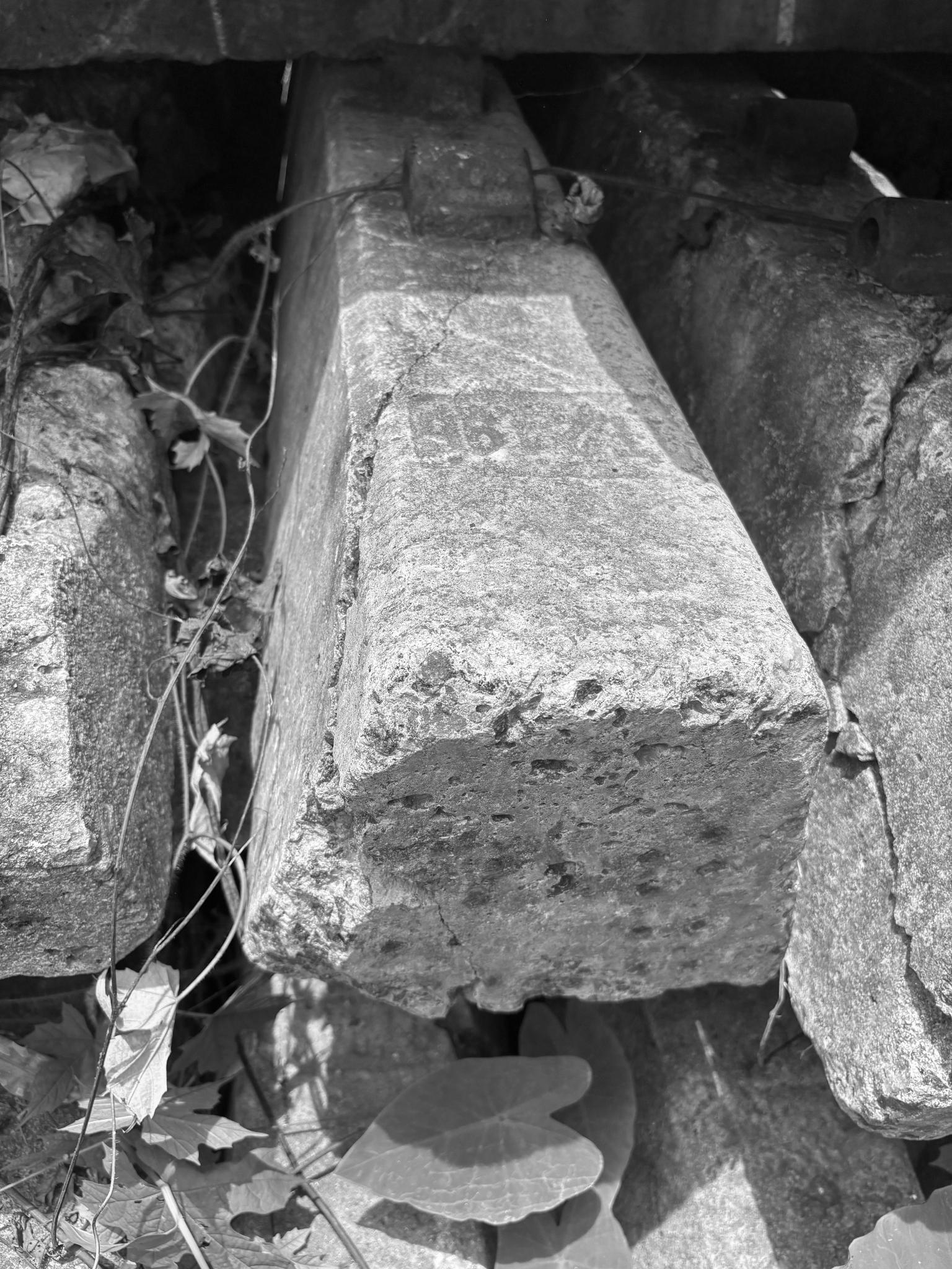cracks under rail seat: (193, 209, 539, 934), (814, 308, 951, 1080), (631, 127, 758, 401)
